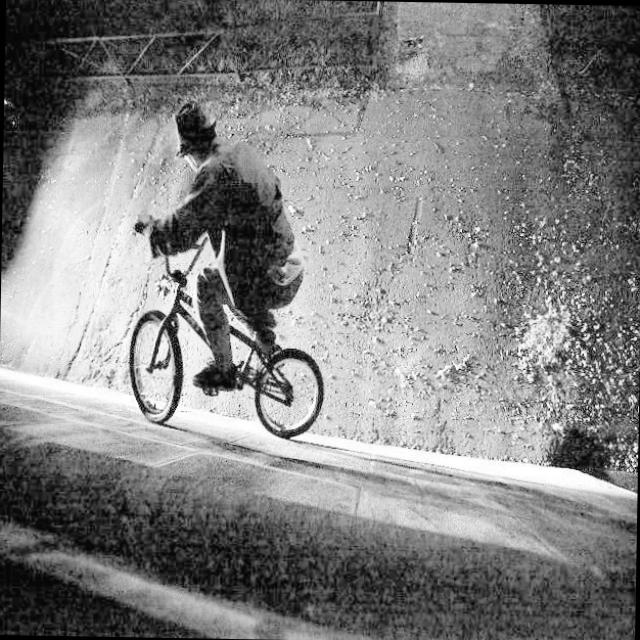Bicycle: (114, 252, 326, 467), (152, 59, 278, 372)
